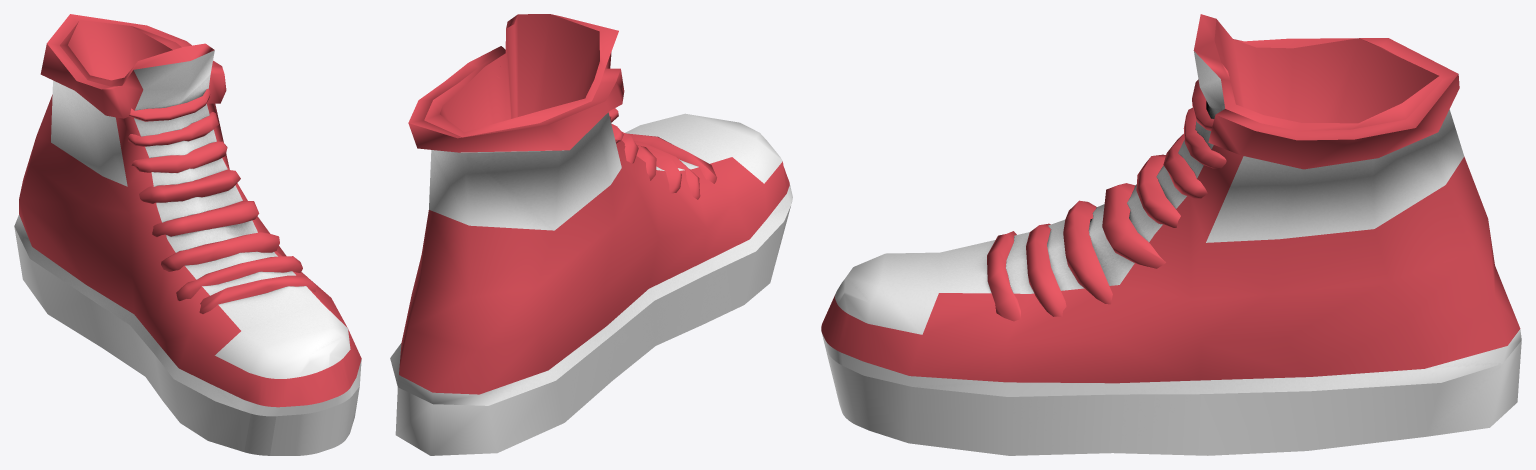
Rendered from ayakkabi2.fbx.
The picture shows the model from 3 angles, left to right: view 1: azimuth 30°, elevation 25°; view 2: azimuth 150°, elevation 25°; view 3: azimuth 270°, elevation 25°; orthographic projection. The views are drawn at different scales.
Parts seen in each view (by area): view 1: ayakkabi2; view 2: ayakkabi2; view 3: ayakkabi2.
Boxes of the visible parts, box(x1,y1,x2,y2) form: ayakkabi2: box(14, 14, 361, 455); ayakkabi2: box(390, 14, 792, 455); ayakkabi2: box(821, 14, 1521, 455).
Bounding box in the file's own units: 62.44 × 105 × 180.
